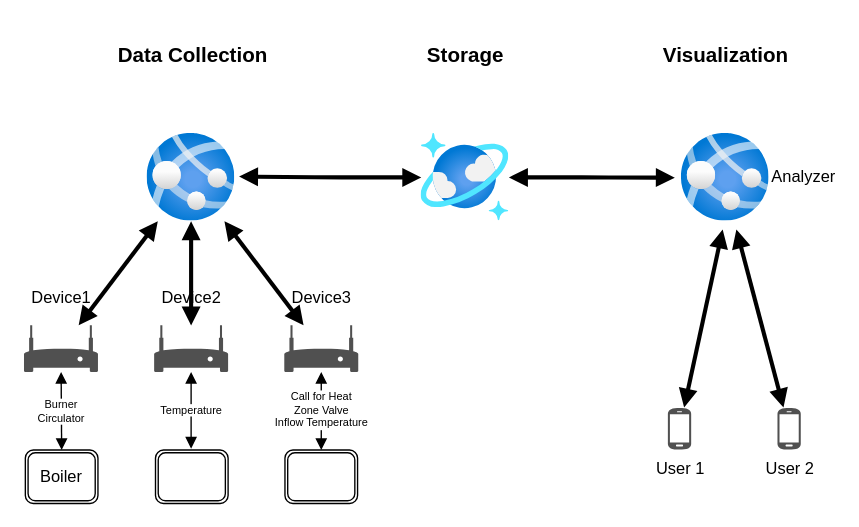
Some shapes in this 859 by 527 pixel diagram are drawn without their labels. Each missing label, with the centre of its shape:
"Air Handler" belongs at pixel 321 476.
"Collector" belongs at pixel 190 177.
"DB" belongs at pixel 464 177.
"Room 1" belongs at pixel 191 476.
